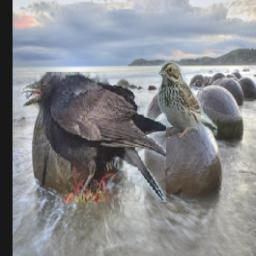Crow: (21, 72, 167, 202)
Sparrow: (156, 62, 217, 139)
